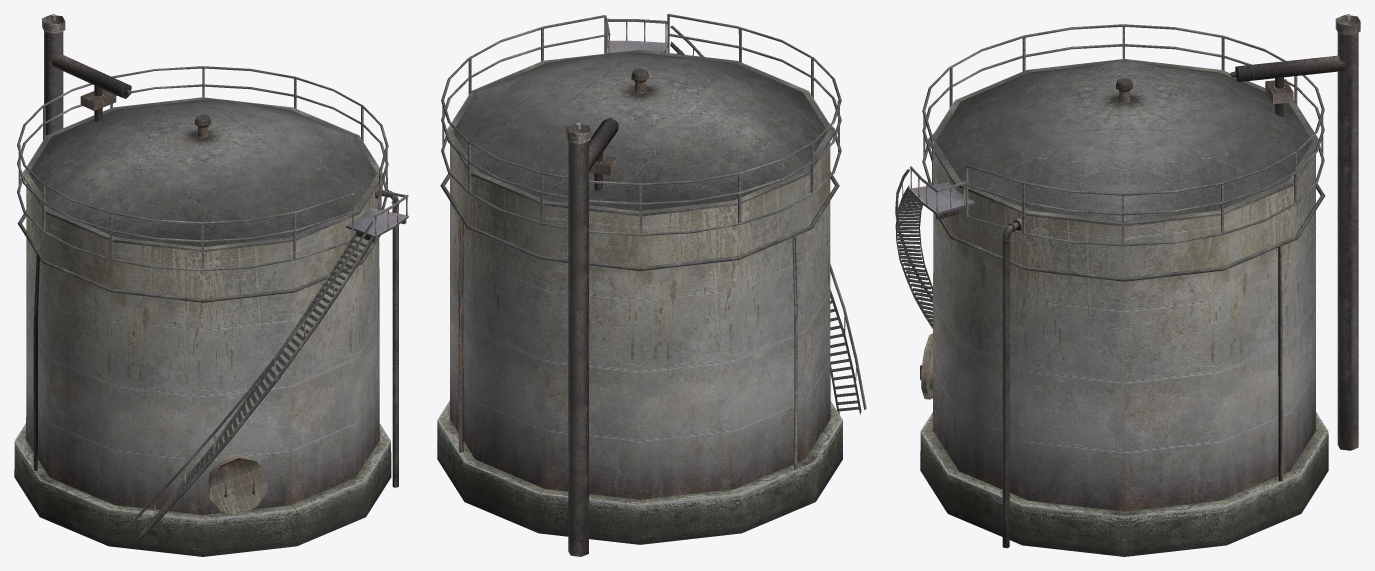
File: oilstorage.FBX
The picture shows the model from 3 angles, left to right: view 1: azimuth 30°, elevation 25°; view 2: azimuth 150°, elevation 25°; view 3: azimuth 270°, elevation 25°; orthographic projection. The views are drawn at different scales.
Parts seen in each view (by area): view 1: Object229; view 2: Object229; view 3: Object229.
Part boxes in pixels (x1,y1,x2,y2): Object229: (14, 14, 408, 556); Object229: (437, 14, 866, 556); Object229: (895, 14, 1360, 556).
Bounding box in the file's own units: 1543 × 1760 × 1811.
Materials: 1 (1 with a texture image).
